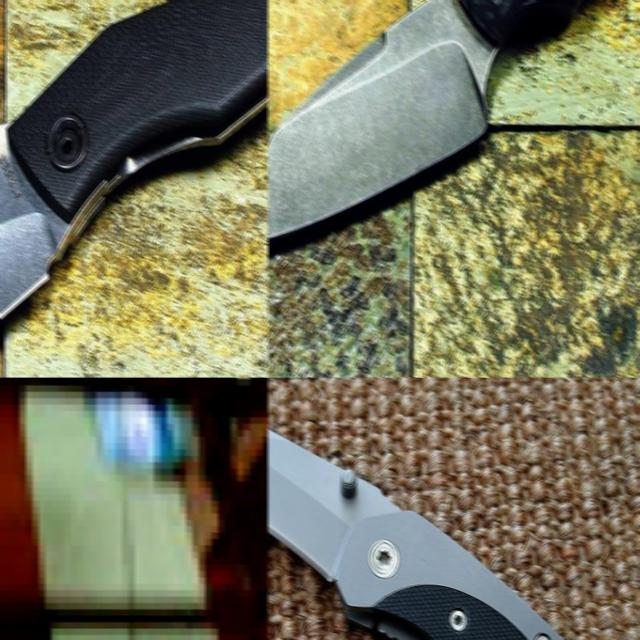Knife_Handle: (0, 465, 268, 640)
